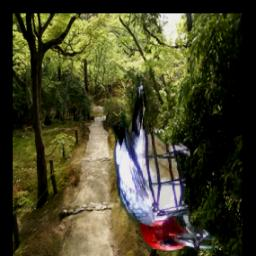Woodpecker: (112, 78, 217, 253)
